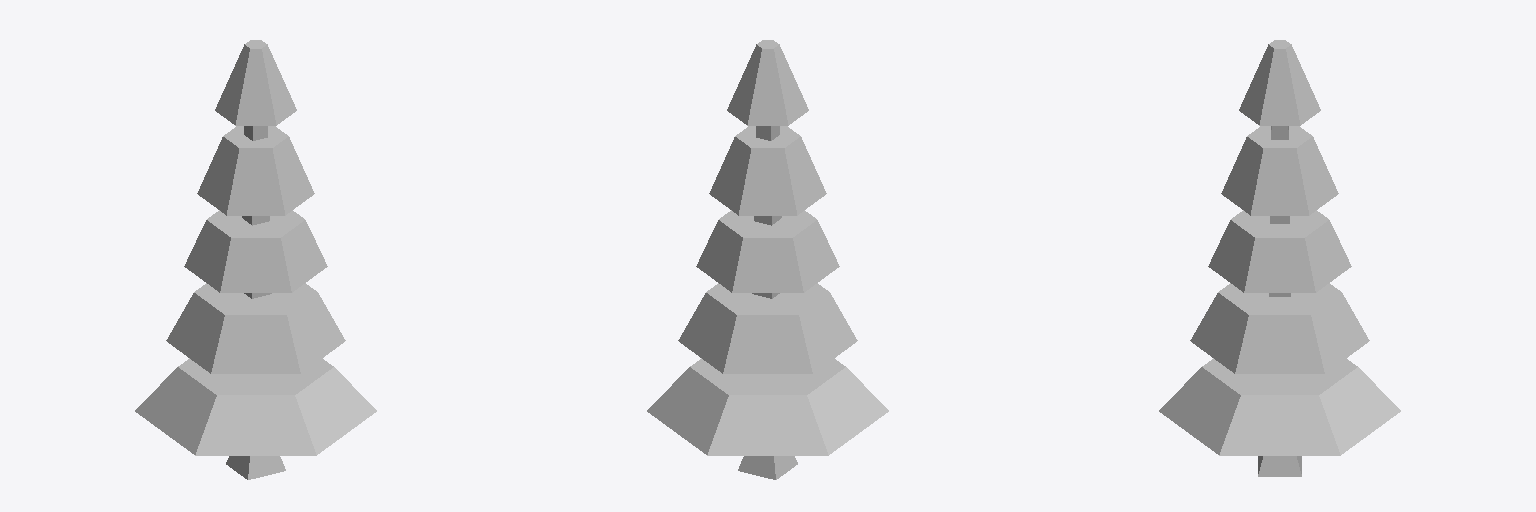
File: tree_pineRoundA.obj
3 views of the same model, side by side, from view 1: azimuth 30°, elevation 25°; view 2: azimuth 150°, elevation 25°; view 3: azimuth 270°, elevation 25° (orthographic).
Visible parts, largest first — view 1: tree_pineRoundA; view 2: tree_pineRoundA; view 3: tree_pineRoundA.
Part boxes in pixels (x1,y1,x2,y2): tree_pineRoundA: (135, 40, 376, 479); tree_pineRoundA: (647, 40, 888, 479); tree_pineRoundA: (1159, 40, 1400, 476).
Size of the model in its own units: 0.617 by 1.37 by 0.7125.